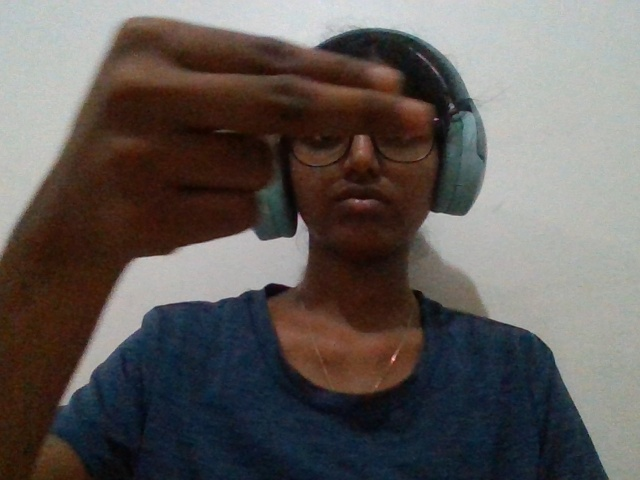H: (35, 1, 477, 282)
